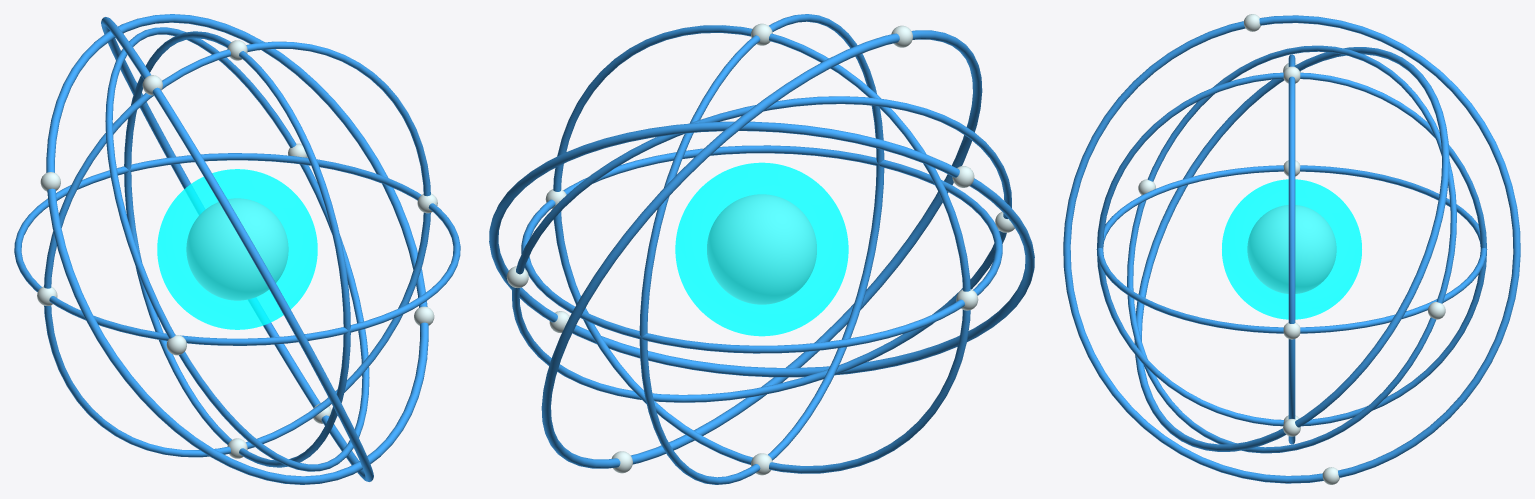
File: EnergyCore.fbx
3 renders of one model, left to right at view 1: azimuth 30°, elevation 25°; view 2: azimuth 150°, elevation 25°; view 3: azimuth 270°, elevation 25°, orthographic. The views are drawn at different scales.
Visible parts, largest first — view 1: Core_Outer, Ring_4, Ring_2, Ring_6, Ring_5, Core_Inner, Ring_1, Ring_3; view 2: Core_Outer, Ring_6, Ring_4, Ring_2, Core_Inner, Ring_5, Ring_3, Ring_1; view 3: Core_Outer, Ring_6, Ring_4, Ring_3, Ring_5, Core_Inner, Ring_1, Ring_2.
Boxes of the visible parts, box(x1,y1,x2,y2) form: Core_Outer: box(157, 169, 317, 329); Ring_4: box(46, 14, 428, 484); Ring_2: box(44, 41, 430, 457); Ring_6: box(101, 17, 373, 481); Ring_5: box(105, 27, 369, 471); Core_Inner: box(186, 198, 288, 300); Ring_1: box(14, 153, 460, 345); Ring_3: box(124, 31, 350, 467); Core_Outer: box(675, 162, 848, 336); Ring_6: box(541, 30, 982, 468); Ring_4: box(489, 121, 1034, 377); Ring_2: box(553, 25, 970, 473); Core_Inner: box(707, 194, 816, 304); Ring_5: box(512, 96, 1011, 402); Ring_3: box(639, 14, 884, 484); Ring_1: box(521, 145, 1002, 353); Core_Outer: box(1222, 179, 1361, 319); Ring_6: box(1063, 15, 1520, 483); Ring_4: box(1134, 47, 1449, 451); Ring_3: box(1096, 72, 1487, 426); Ring_5: box(1127, 45, 1456, 453); Core_Inner: box(1247, 205, 1336, 293); Ring_1: box(1097, 165, 1486, 333); Ring_2: box(1288, 54, 1295, 444).
Size of the model in its own units: 3.24 by 3.3 by 3.58.
